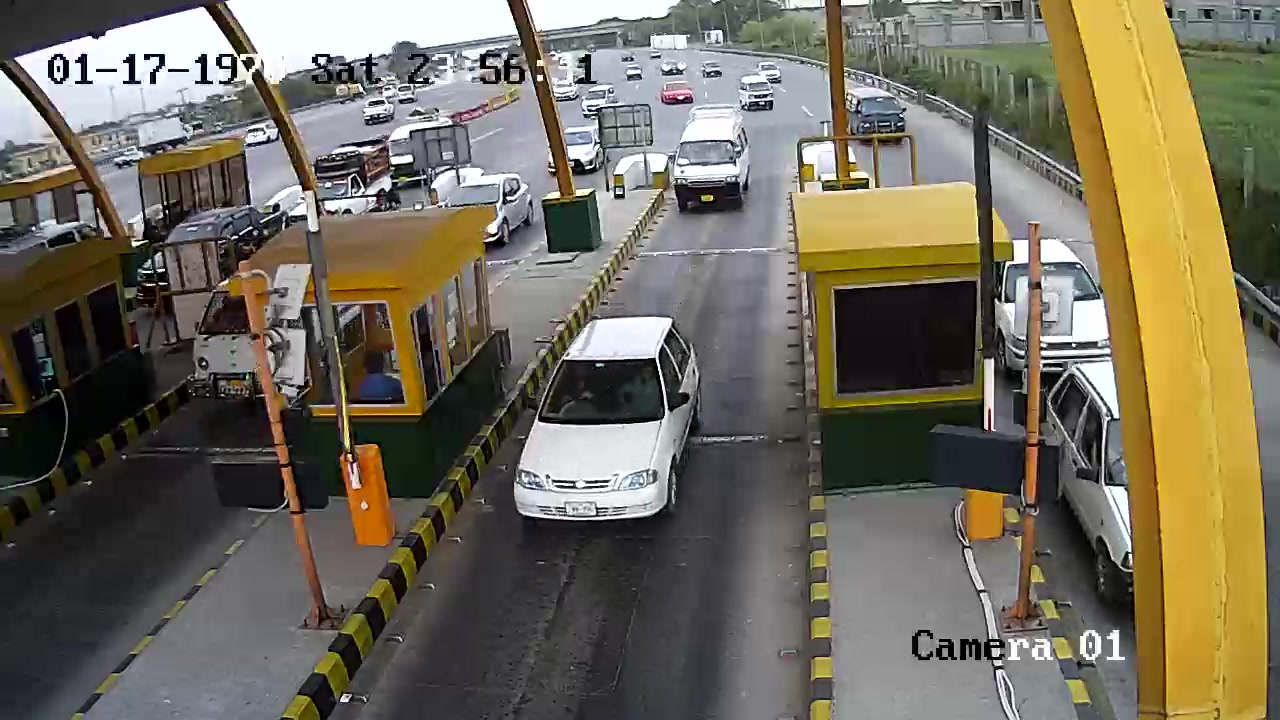F1: (506, 318, 706, 554)
